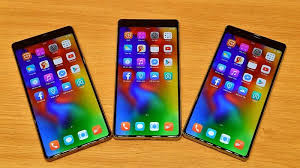bphone: (181, 22, 288, 163), (10, 22, 117, 163), (113, 15, 182, 140)
